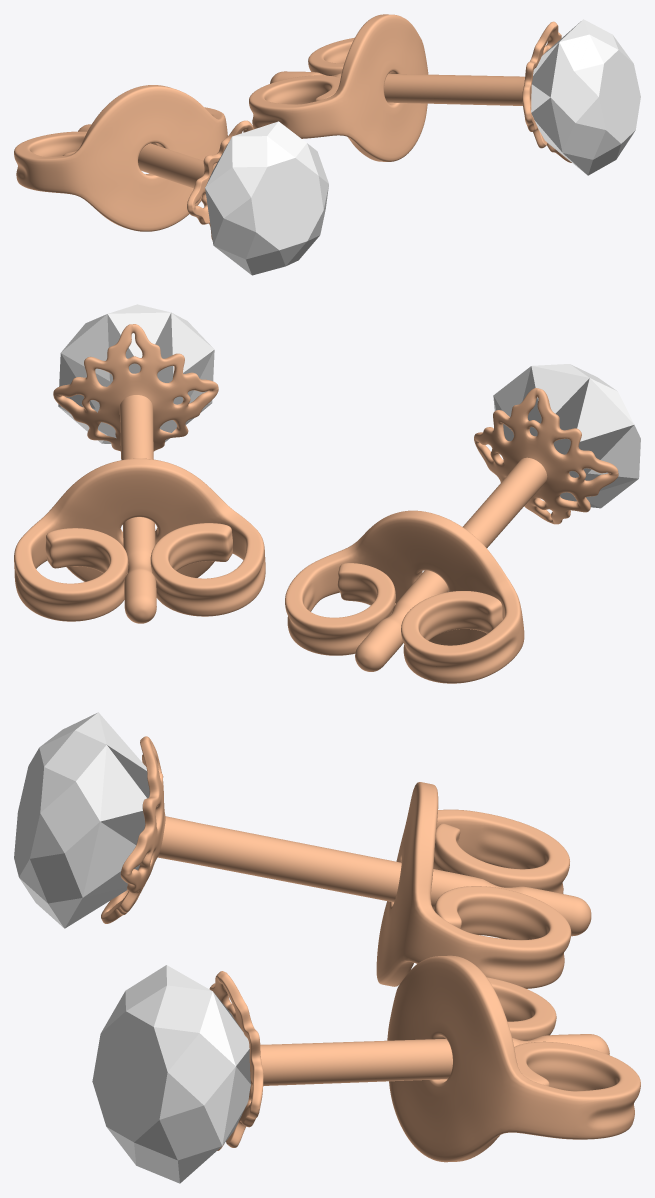
Rendered from 1744321367736_fulbevalo vorosarany-ezust (1).glb.
3 views of the same model, one above another, from view 1: azimuth 30°, elevation 25°; view 2: azimuth 150°, elevation 25°; view 3: azimuth 270°, elevation 25° (orthographic). The views are drawn at different scales.
Parts seen in each view (by area): view 1: node_c69b081e_b0b2_4f6b_a23a_504eada27dbf_mesh0, Gem.001, Gem; view 2: node_c69b081e_b0b2_4f6b_a23a_504eada27dbf_mesh0, Gem.001, Gem; view 3: node_c69b081e_b0b2_4f6b_a23a_504eada27dbf_mesh0, Gem, Gem.001.
Boxes of the visible parts, box(x1,y1,x2,y2) form: node_c69b081e_b0b2_4f6b_a23a_504eada27dbf_mesh0: box(14, 14, 571, 240); Gem.001: box(205, 121, 328, 275); Gem: box(531, 19, 640, 175); node_c69b081e_b0b2_4f6b_a23a_504eada27dbf_mesh0: box(14, 324, 618, 683); Gem.001: box(493, 364, 640, 508); Gem: box(58, 304, 214, 444); node_c69b081e_b0b2_4f6b_a23a_504eada27dbf_mesh0: box(101, 736, 640, 1162); Gem: box(92, 965, 250, 1183); Gem.001: box(14, 712, 149, 928).
Size of the model in its own units: 1.76 by 0.5946 by 1.35.
